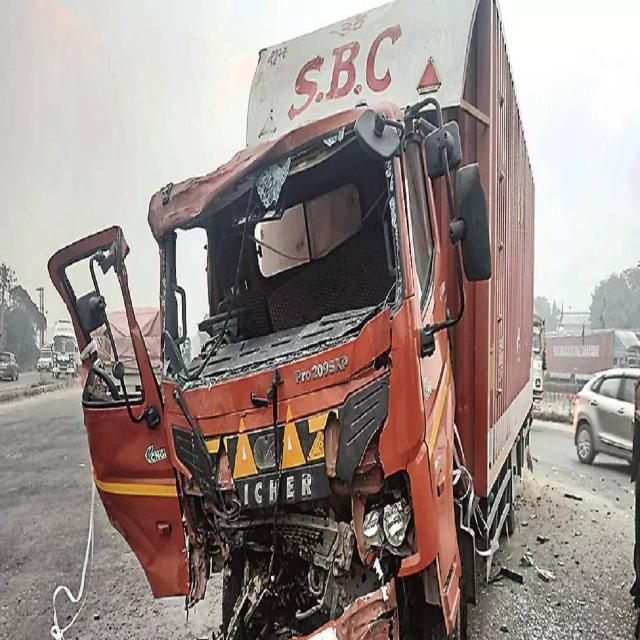accident: (48, 0, 534, 638)
